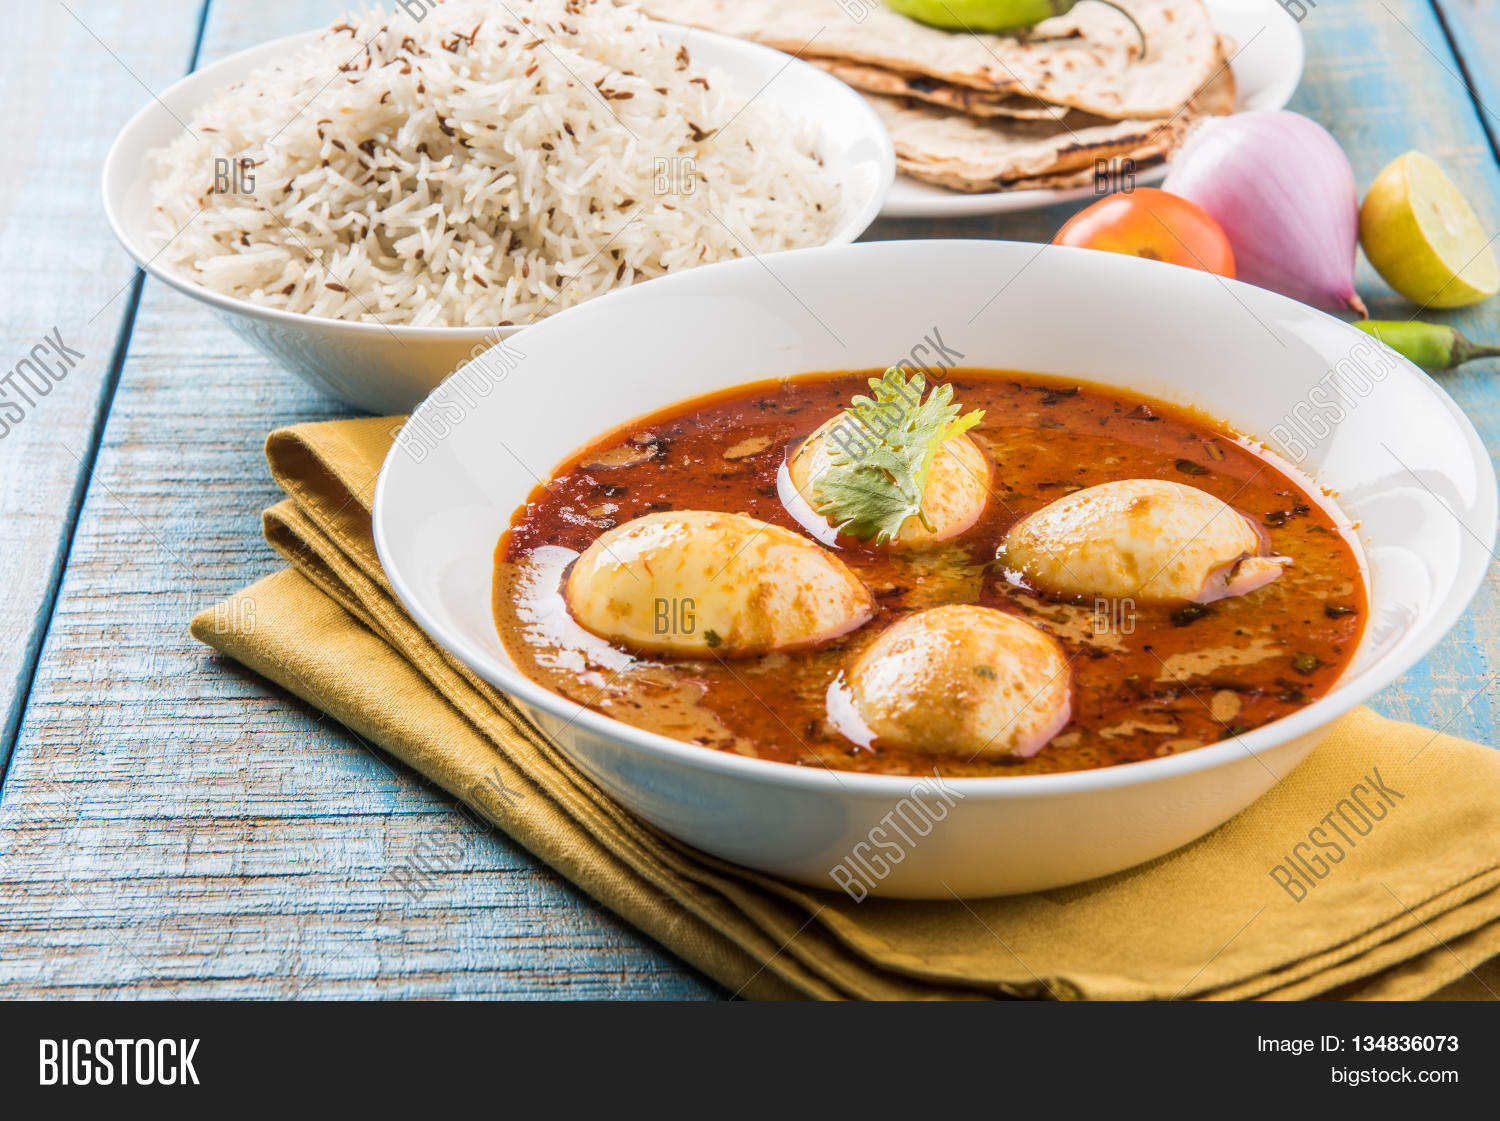curry: (515, 349, 1440, 775)
egg: (743, 334, 1043, 586), (989, 422, 1289, 674), (822, 524, 1122, 775), (562, 440, 862, 691)
rice: (165, 8, 839, 329)
roti: (794, 9, 1277, 188)
